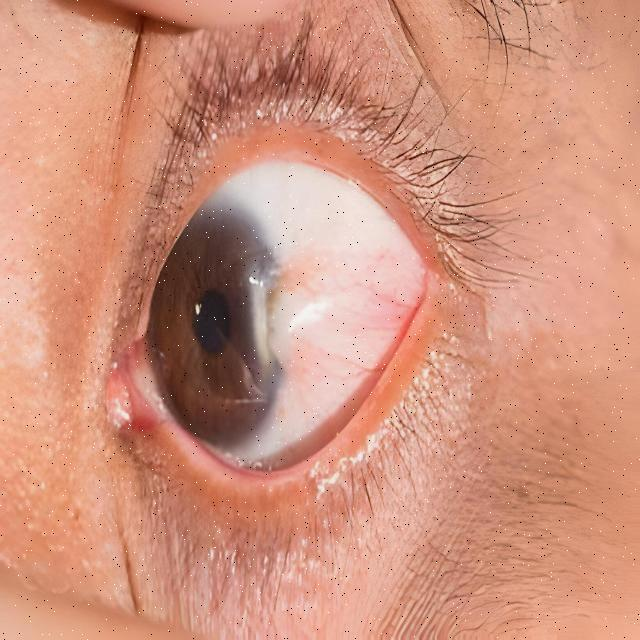Pterygium: (246, 228, 424, 394)
